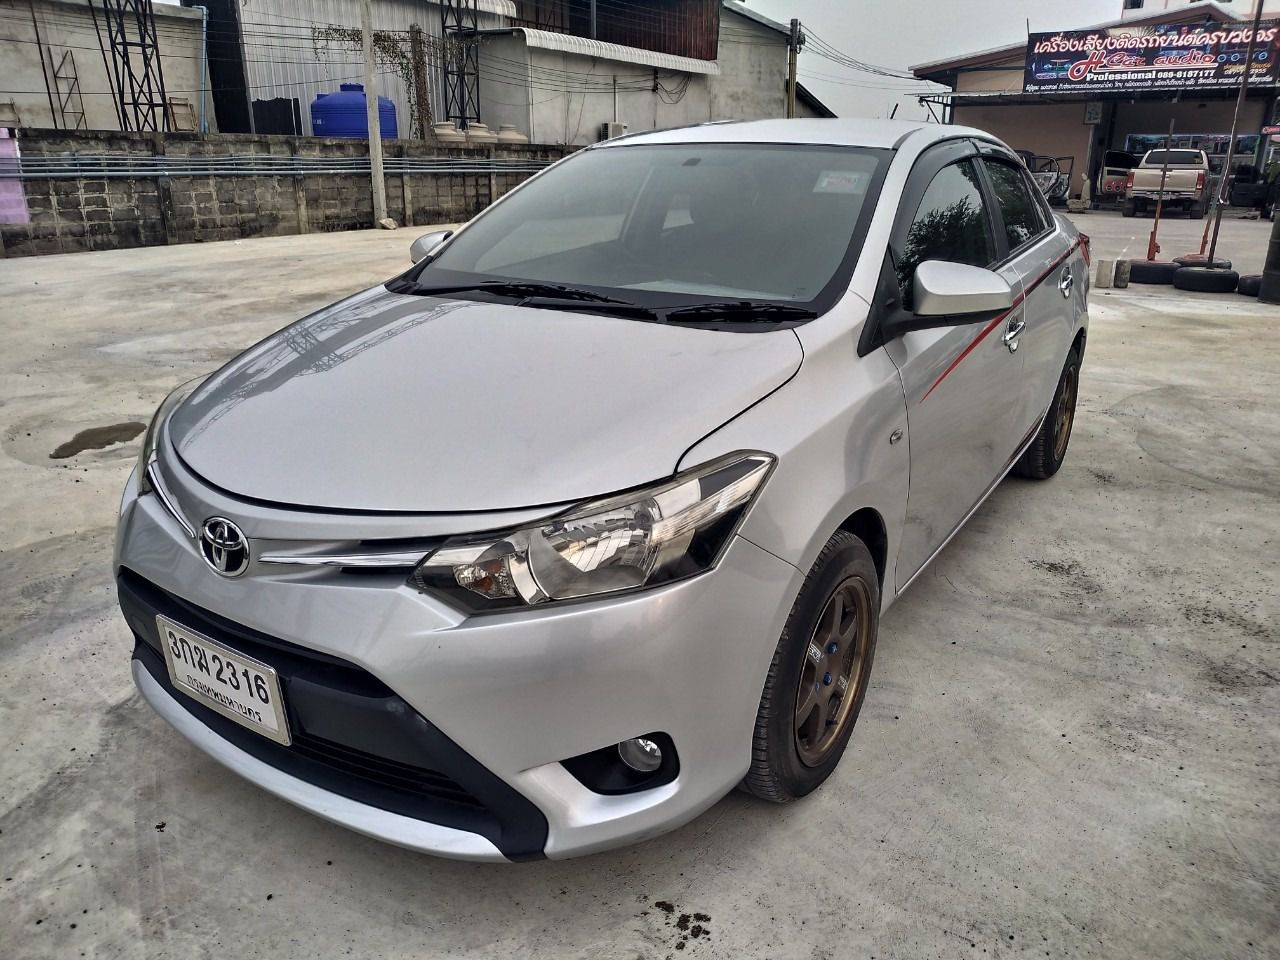sedan: (106, 108, 1096, 872)
